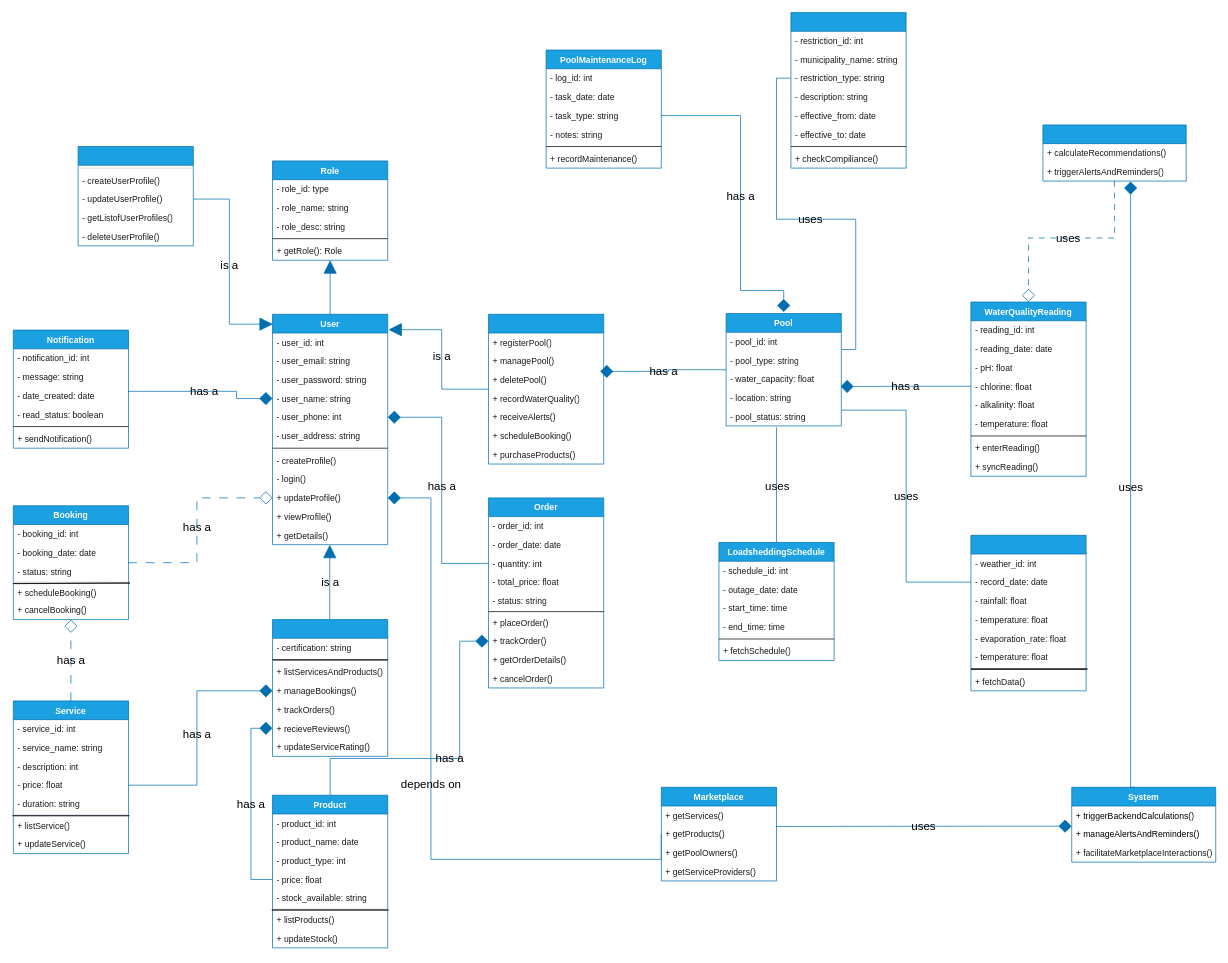
Image size: 1228x963. Some labels were removed from this diagram. Here are the shapes that lost their labels. From the top down, the box of each, then its label:
(790, 12, 906, 168): MunicipalRestriction
(1042, 124, 1186, 181): RecommendationEngine
(77, 146, 193, 246): Admin
(488, 314, 604, 464): PoolOwner
(970, 535, 1086, 691): WeatherData
(272, 619, 388, 756): ServiceProvider
